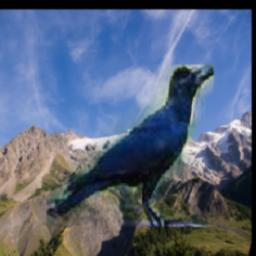Crow: (47, 65, 214, 227)
